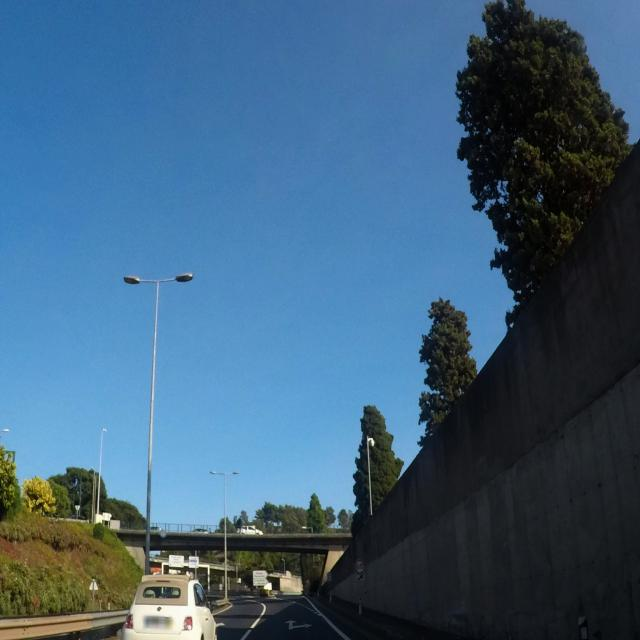car: (120, 572, 219, 640)
